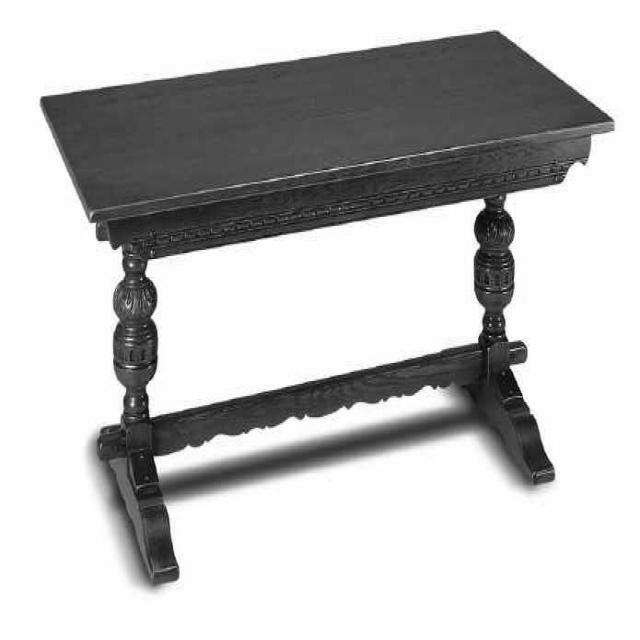table: (41, 28, 616, 583)
